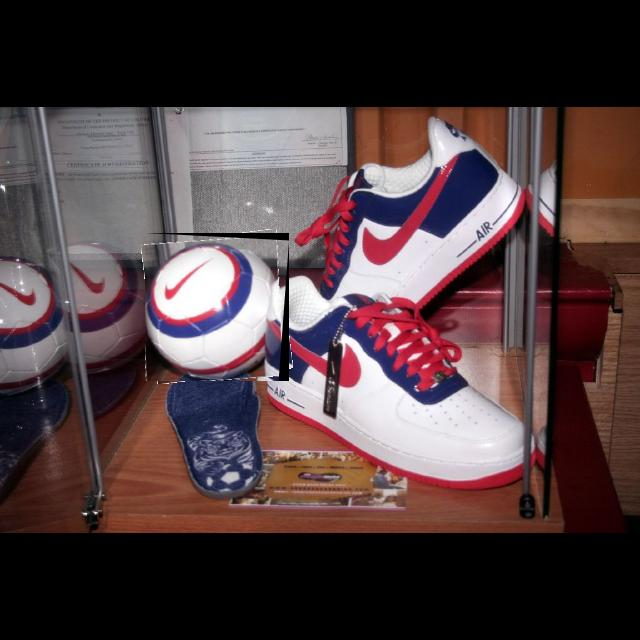Football: (145, 233, 289, 381)
